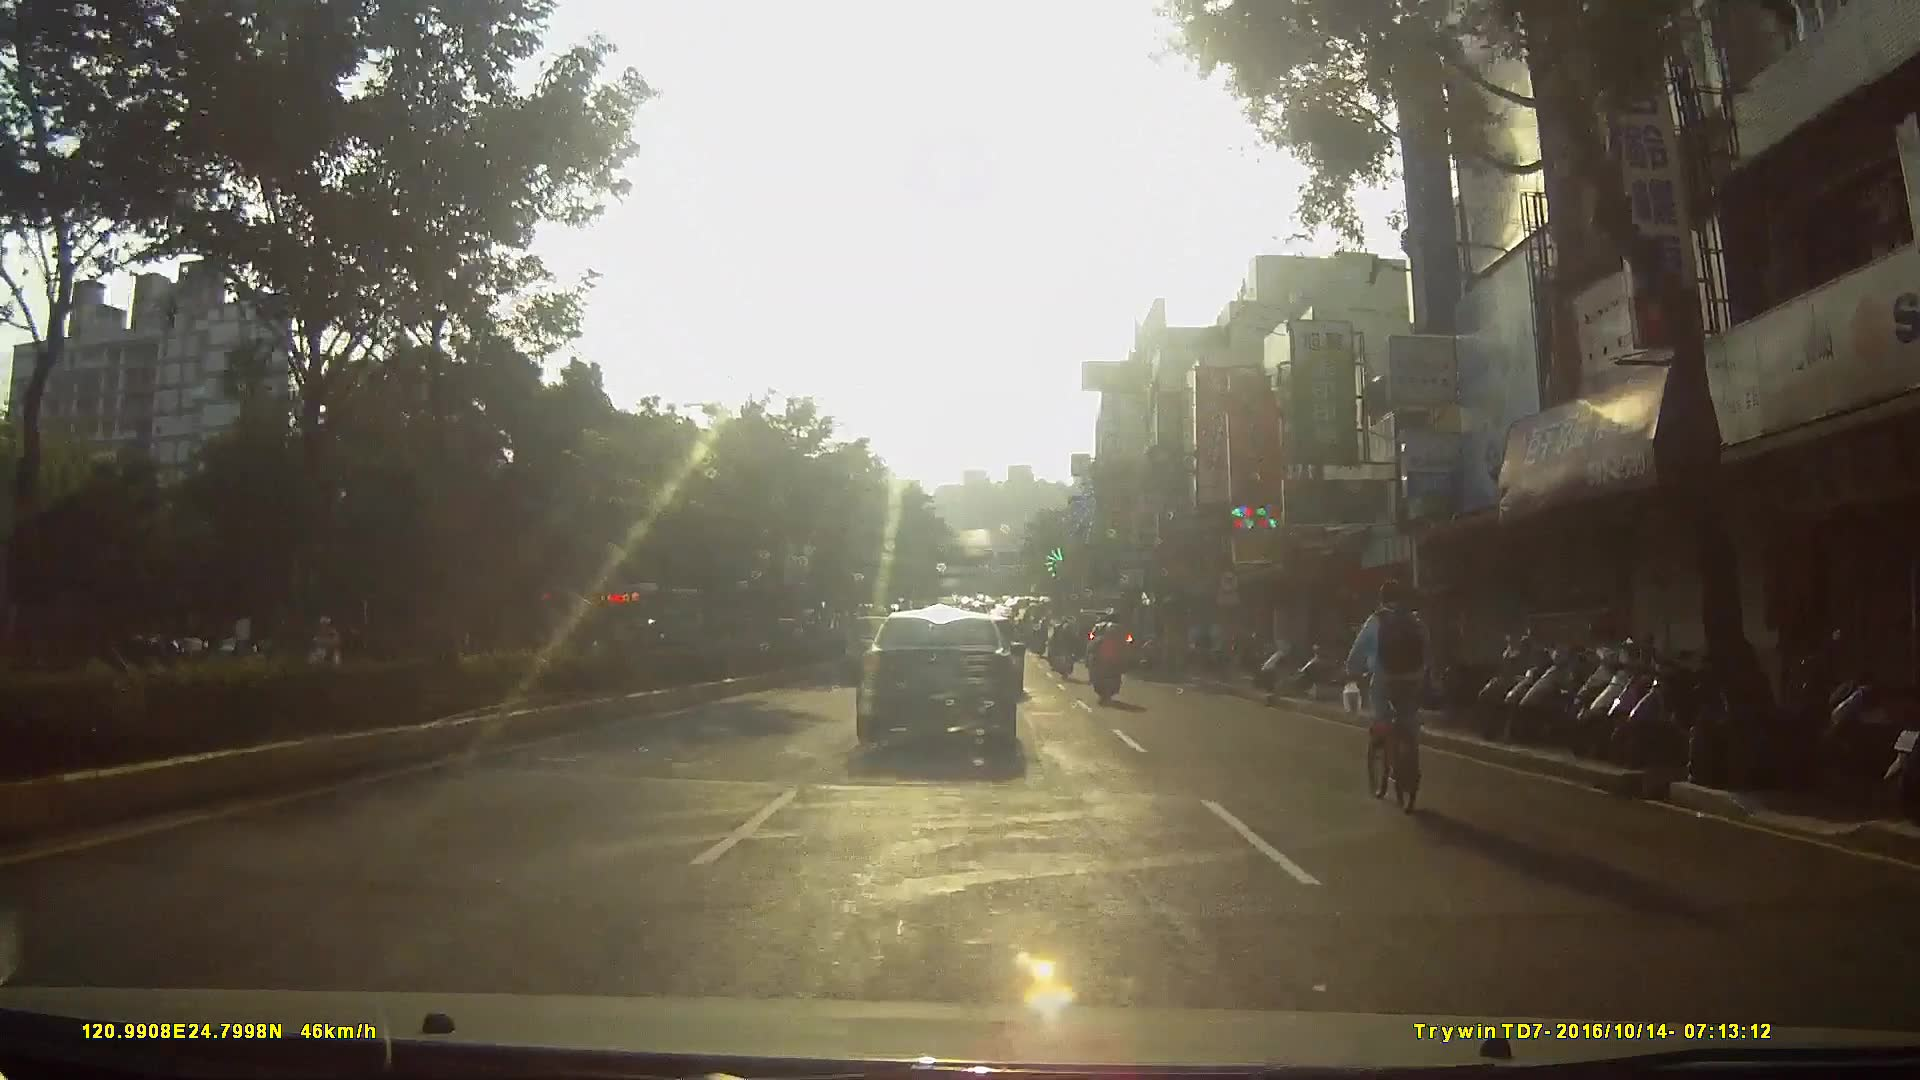rider: (1343, 574, 1433, 810), (1086, 623, 1123, 710), (1048, 618, 1075, 677)
vehicle: (851, 602, 1033, 767)
